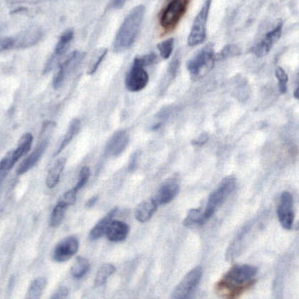Lymphocyte: (162, 1, 187, 32)
